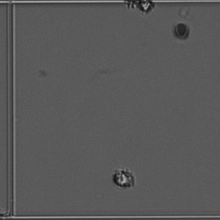Dead Cell: (170, 21, 194, 41)
Living Cell: (109, 164, 140, 195), (130, 1, 157, 14)
